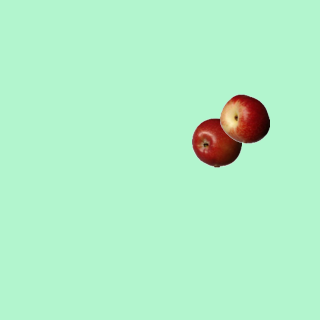Apple Braeburn: (191, 117, 241, 167)
Nectarine: (219, 93, 269, 143)
